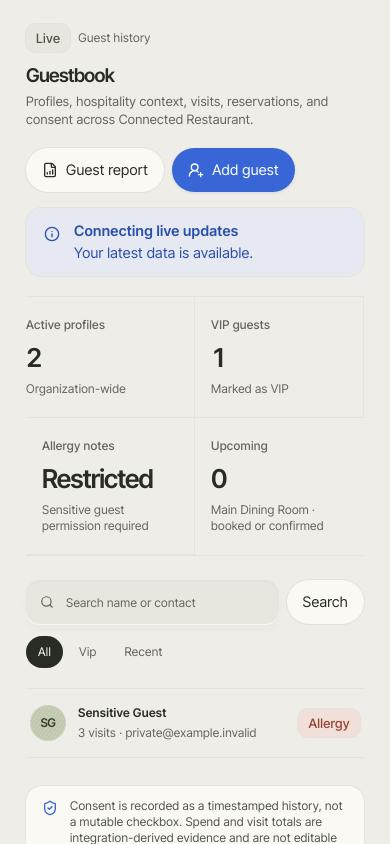
Test: connected CRM guest merge review › keeps spend and visit evidence out of a contact-only workspace
Click the text "Sensitive Guest". click: x=122, y=713
box: 78,705 -> 167,721
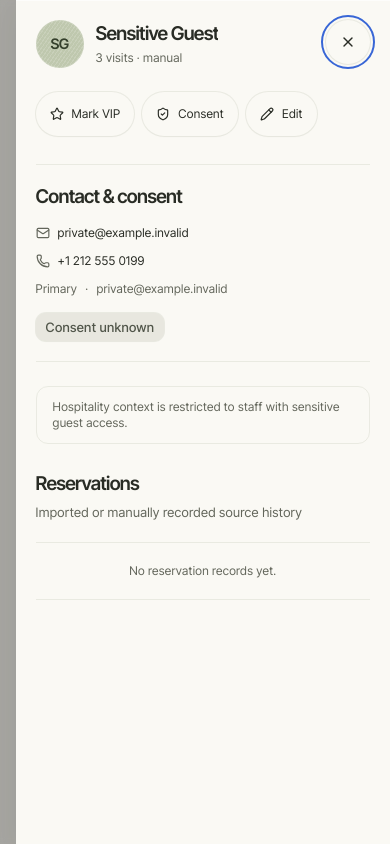
Result: the text "Hospitality context is restricted to staff with sensitive guest access." is shown at 36,386 -> 370,444
